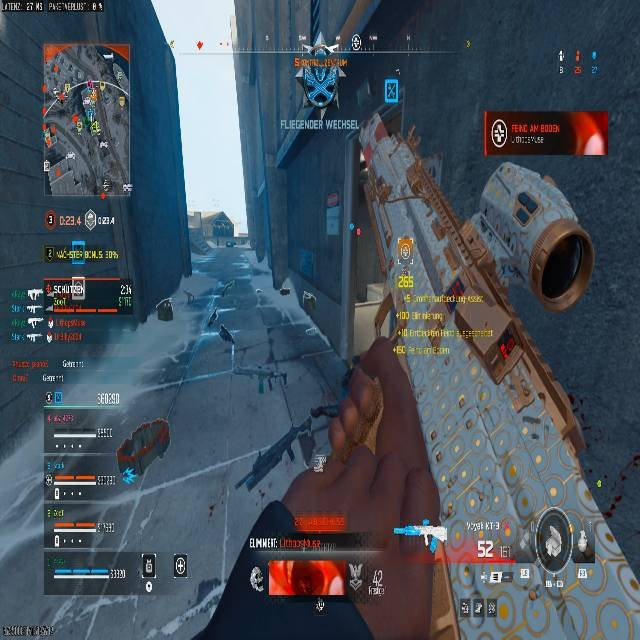head: (372, 104, 401, 139)
player: (296, 54, 347, 123)
